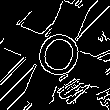O_SW: (25, 23, 85, 87)
